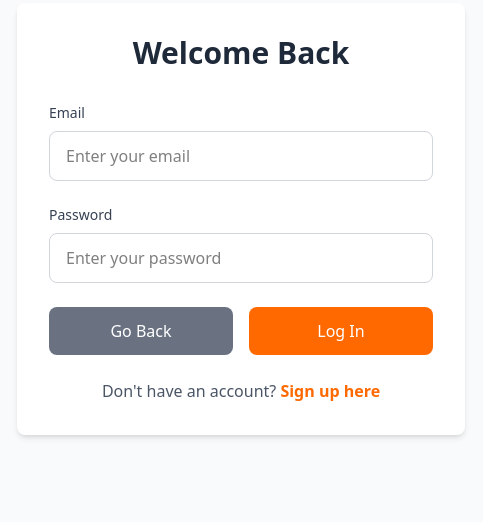
Test: Login Component › displays error for invalid credentials (401)
In the field labelled "Email": (241, 156) left=49, top=131, right=433, bottom=181, type "test@example.com"
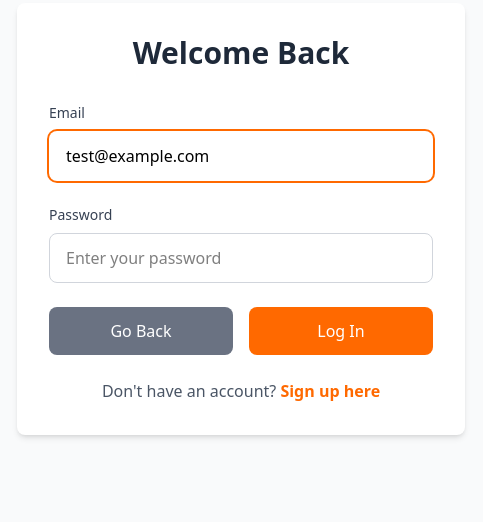
In the password field labelled "Password": (241, 258) left=49, top=233, right=433, bottom=283, type "wrongpassword"
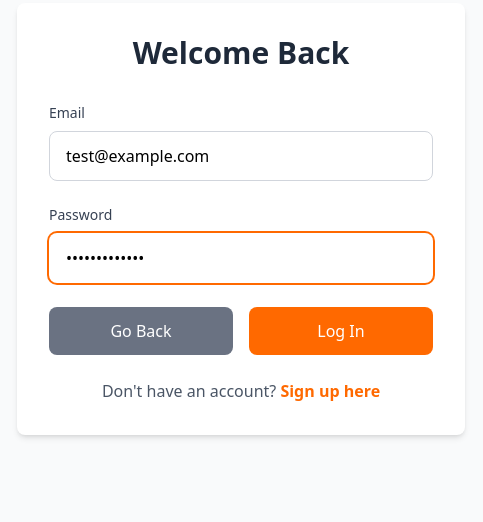
Click the button "Log In": click(341, 331) left=249, top=307, right=433, bottom=355
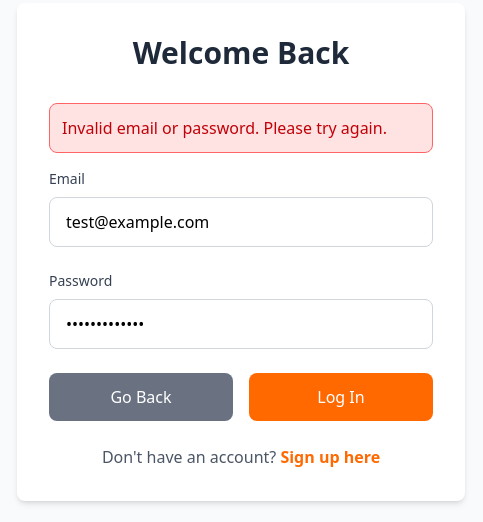
Now the text "Invalid email or password. Please try again." is shown, box left=49, top=103, right=433, bottom=153
